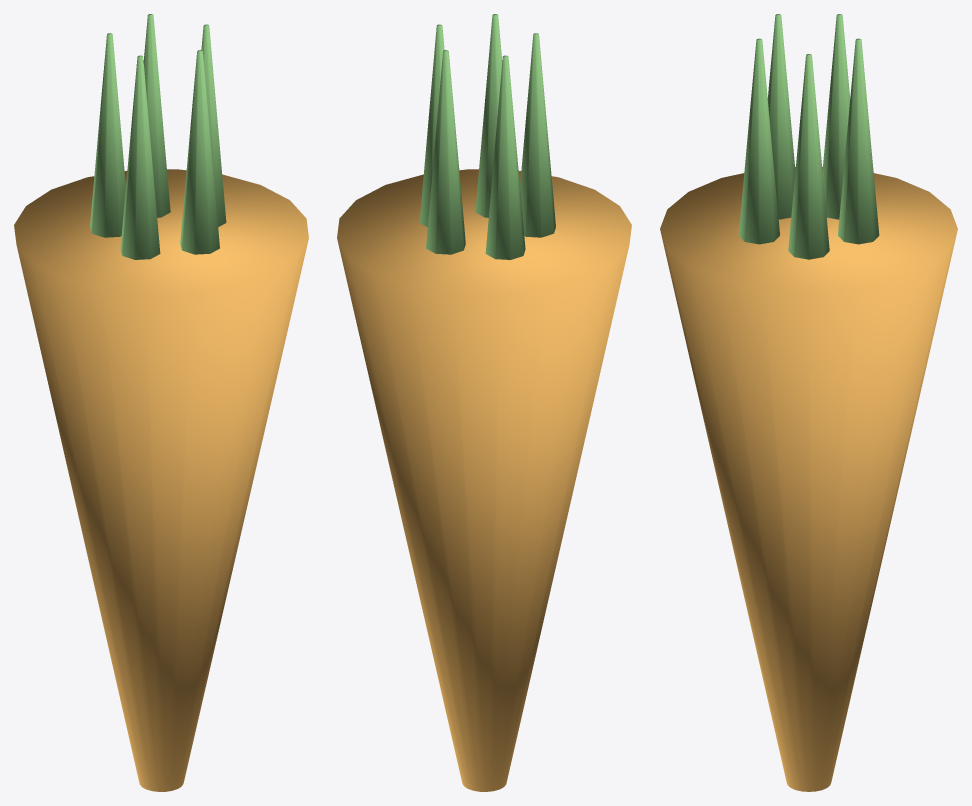
File: Carrot.glb
3 views of the same model, side by side, from view 1: azimuth 30°, elevation 25°; view 2: azimuth 150°, elevation 25°; view 3: azimuth 270°, elevation 25° (orthographic).
Parts seen in each view (by area): view 1: Carrot; view 2: Carrot; view 3: Carrot.
Part boxes in pixels (bbox=[...]): Carrot: bbox=[14, 14, 308, 791]; Carrot: bbox=[337, 14, 631, 791]; Carrot: bbox=[660, 14, 957, 791].
Size of the model in its own units: 0.4 by 1.11 by 0.4.
